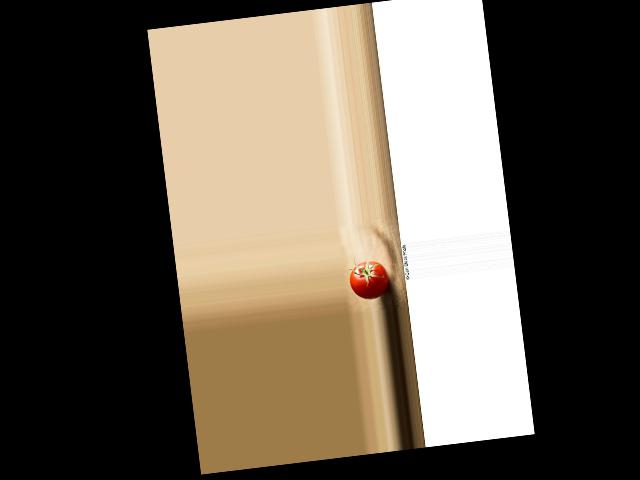tomato: (348, 258, 390, 300)
